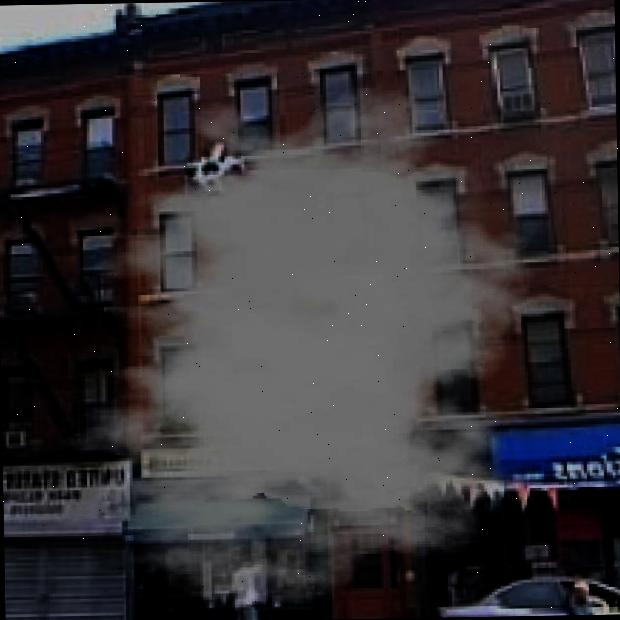smoke: (29, 83, 563, 612)
